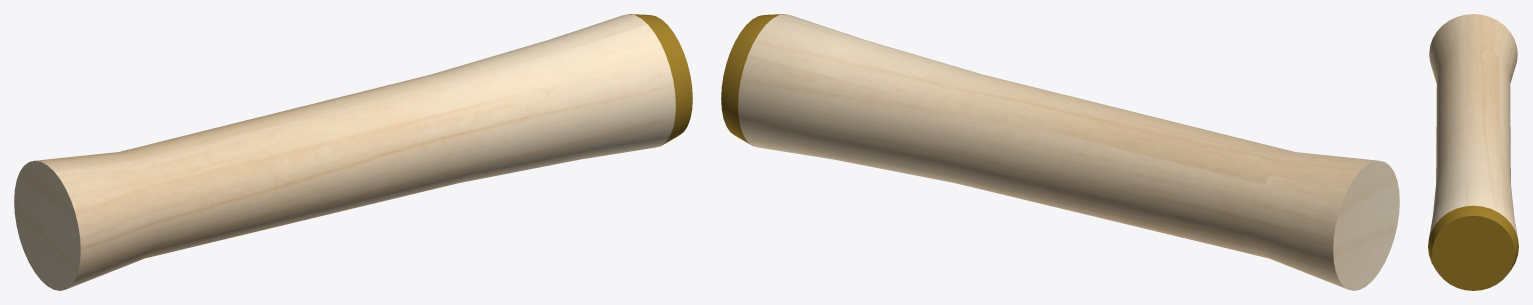
Rendered from Muddler.glb.
3 views of the same model, side by side, from view 1: azimuth 30°, elevation 25°; view 2: azimuth 150°, elevation 25°; view 3: azimuth 270°, elevation 25° (orthographic). The views are drawn at different scales.
Visible parts, largest first — view 1: Circle; view 2: Circle; view 3: Circle.
Part boxes in pixels (x1=…): Circle: x1=14, y1=14, x2=692, y2=290; Circle: x1=721, y1=14, x2=1399, y2=290; Circle: x1=1428, y1=14, x2=1518, y2=290.
Size of the model in its own units: 3.37 by 0.6506 by 0.6506.
Materials: 2 (1 with a texture image).
